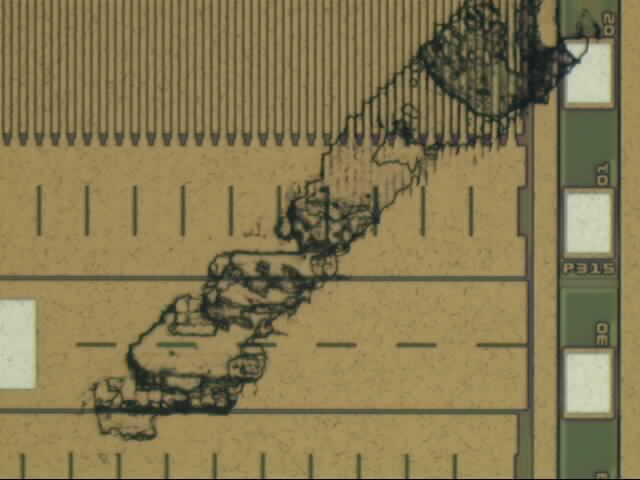SCRATCH: (89, 1, 604, 446)
